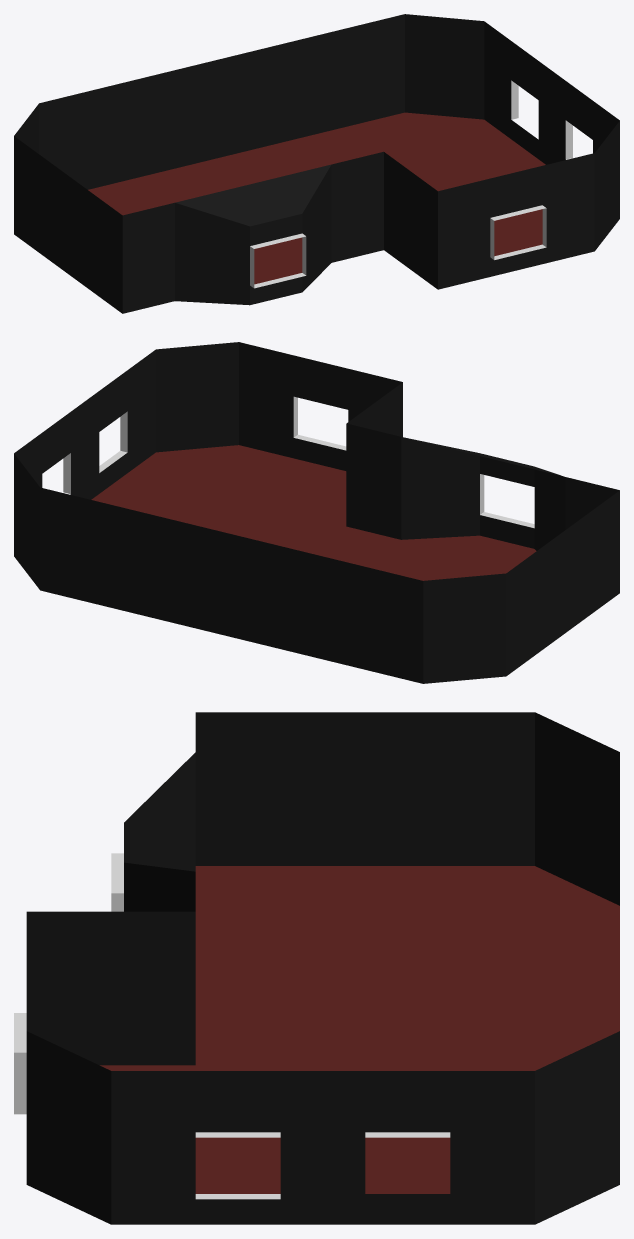
File: artroom.fbx
3 renders of one model, top to bottom at view 1: azimuth 30°, elevation 25°; view 2: azimuth 150°, elevation 25°; view 3: azimuth 270°, elevation 25°, orthographic. The views are drawn at different scales.
Visible parts, largest first — view 1: Cube.001; view 2: Cube.001; view 3: Cube.001.
Boxes of the visible parts, x1,y1,x2,y2 form: Cube.001: (14, 14, 619, 313); Cube.001: (14, 342, 619, 683); Cube.001: (14, 712, 619, 1224).
Bounding box in the file's own units: 2030 × 400 × 1428.
